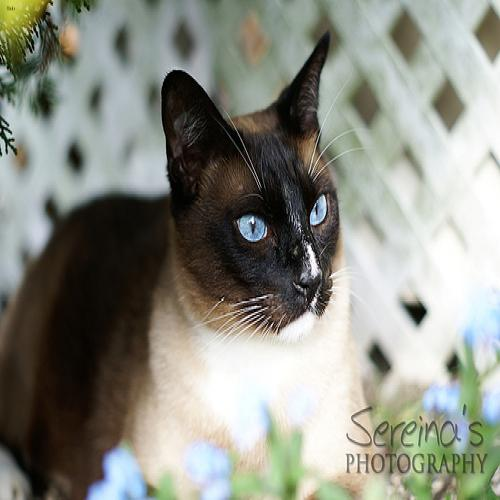siamese: (151, 25, 344, 349)
